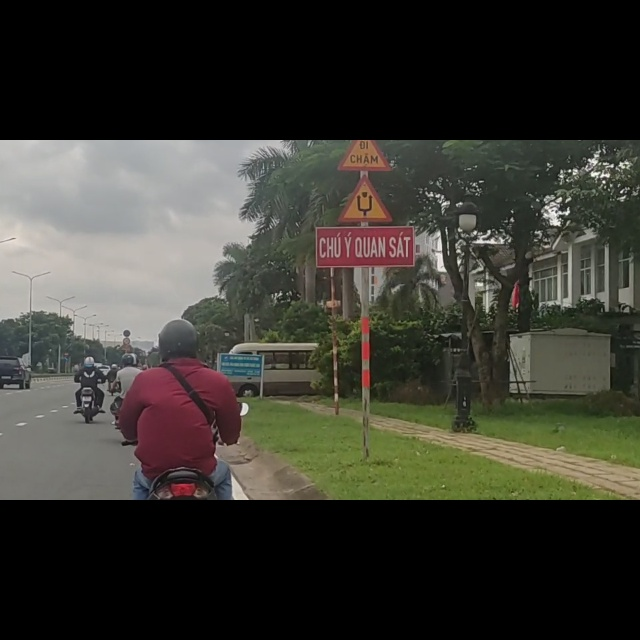bien_cam: (335, 60, 393, 147), (337, 1, 395, 59), (123, 337, 131, 350), (63, 384, 69, 395), (63, 375, 70, 384)
